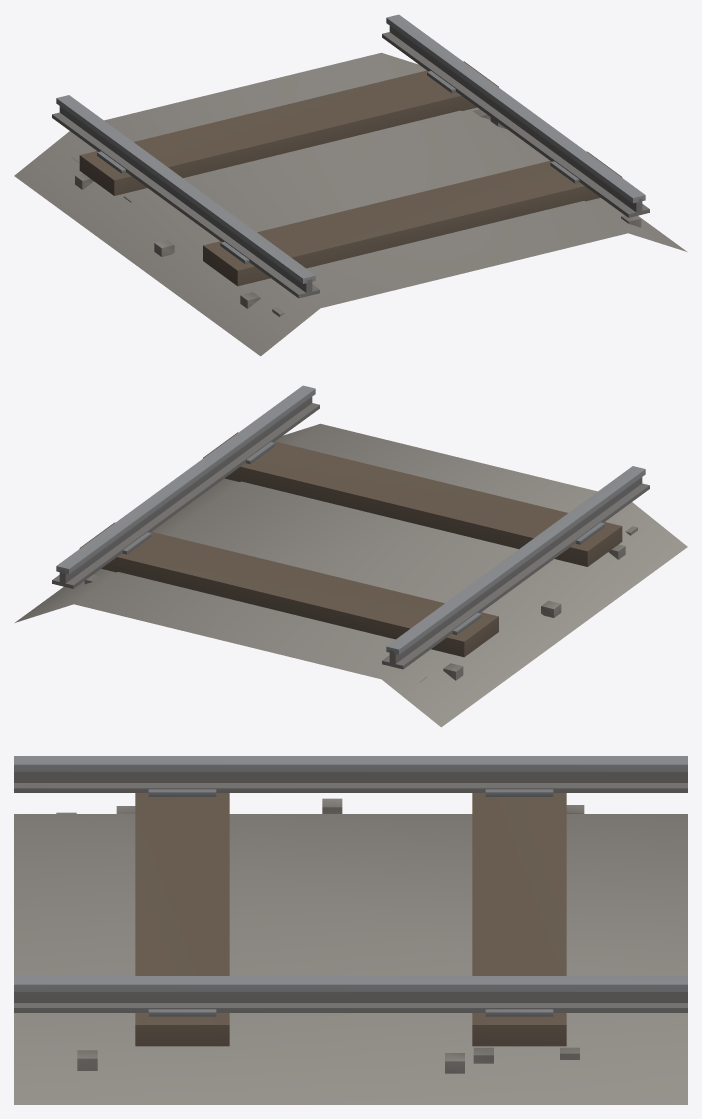
File: track.glb
3 renders of one model, top to bottom at view 1: azimuth 30°, elevation 25°; view 2: azimuth 150°, elevation 25°; view 3: azimuth 270°, elevation 25°, orthographic. The views are drawn at different scales.
Visible parts, largest first — view 1: Body; view 2: Body; view 3: Body.
Part boxes in pixels (box(x1,y1,x2,y2)): Body: box(14, 14, 686, 356); Body: box(15, 385, 687, 727); Body: box(14, 756, 687, 1104).
Size of the model in its own units: 1 by 0.151 by 1.
